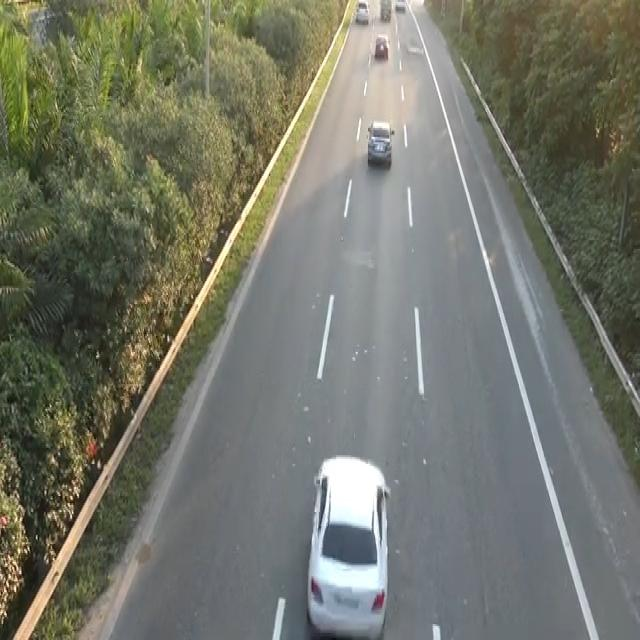bus: (304, 450, 393, 638), (366, 117, 394, 167)
